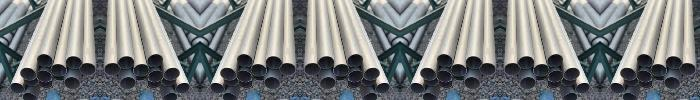pipe: (333, 64, 350, 77), (250, 64, 267, 77), (450, 64, 467, 77), (133, 64, 150, 77), (533, 64, 550, 77), (50, 64, 67, 77), (650, 64, 667, 77), (318, 56, 334, 69), (347, 54, 363, 67), (266, 56, 282, 69), (466, 56, 482, 69), (118, 56, 134, 69), (518, 56, 534, 69), (66, 56, 82, 69), (666, 56, 682, 69), (237, 54, 253, 67), (437, 54, 453, 67), (147, 54, 163, 67), (547, 54, 563, 67), (37, 54, 53, 67), (637, 54, 653, 67), (304, 63, 320, 75), (320, 77, 336, 89), (280, 63, 296, 75), (480, 63, 496, 75), (104, 63, 120, 75), (504, 63, 520, 75), (80, 63, 96, 75), (680, 63, 696, 75), (264, 77, 280, 89), (464, 77, 480, 89), (120, 77, 136, 89), (520, 77, 536, 89), (64, 77, 80, 89), (664, 77, 680, 89), (348, 70, 363, 82), (364, 68, 379, 80), (237, 70, 252, 82), (437, 70, 452, 82), (148, 70, 163, 82), (548, 70, 563, 82), (37, 70, 52, 82), (637, 70, 652, 82), (221, 68, 236, 80), (421, 68, 436, 80), (164, 68, 179, 80), (564, 68, 579, 80), (21, 68, 36, 80), (621, 68, 636, 80), (362, 75, 377, 86), (223, 75, 238, 86), (423, 75, 438, 86), (162, 75, 177, 86), (562, 75, 577, 86), (23, 75, 38, 86), (623, 75, 638, 86), (376, 83, 390, 93), (348, 78, 362, 88), (210, 83, 224, 93), (410, 83, 424, 93), (176, 83, 190, 93), (576, 83, 590, 93), (10, 83, 24, 93), (610, 83, 624, 93), (238, 78, 252, 88), (438, 78, 452, 88), (148, 78, 162, 88), (548, 78, 562, 88), (38, 78, 52, 88), (638, 78, 652, 88)
